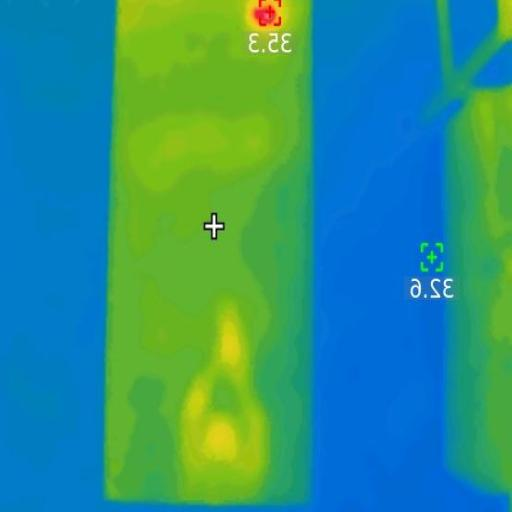hotspot: (250, 3, 278, 32)
